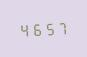five: (42, 20, 53, 36)
four: (18, 21, 29, 37)
seven: (54, 19, 65, 35)
six: (30, 20, 41, 37)
